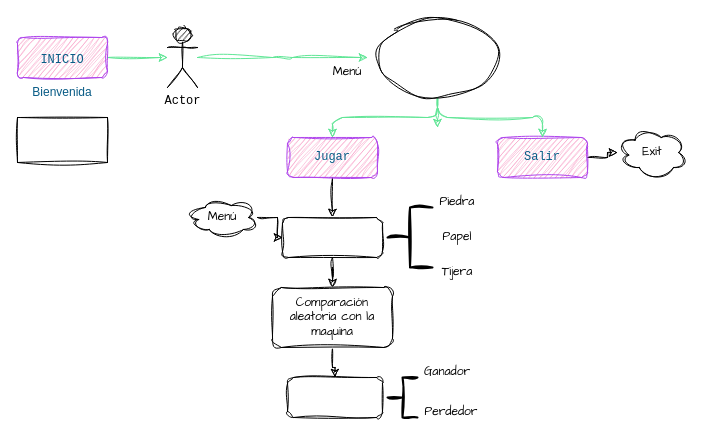
Image size: 705x445. Some labels were removed from this diagram. The shapes that lost their labels are listed below. From the top down, each one's centre as x and y in pixels, then its label:
At (437,57): "Selección de ingreso o salida".
At (62,139): "Ingreso de nombre".
At (332,237): "Selección de elemento".
At (334,397): "Resultado".
